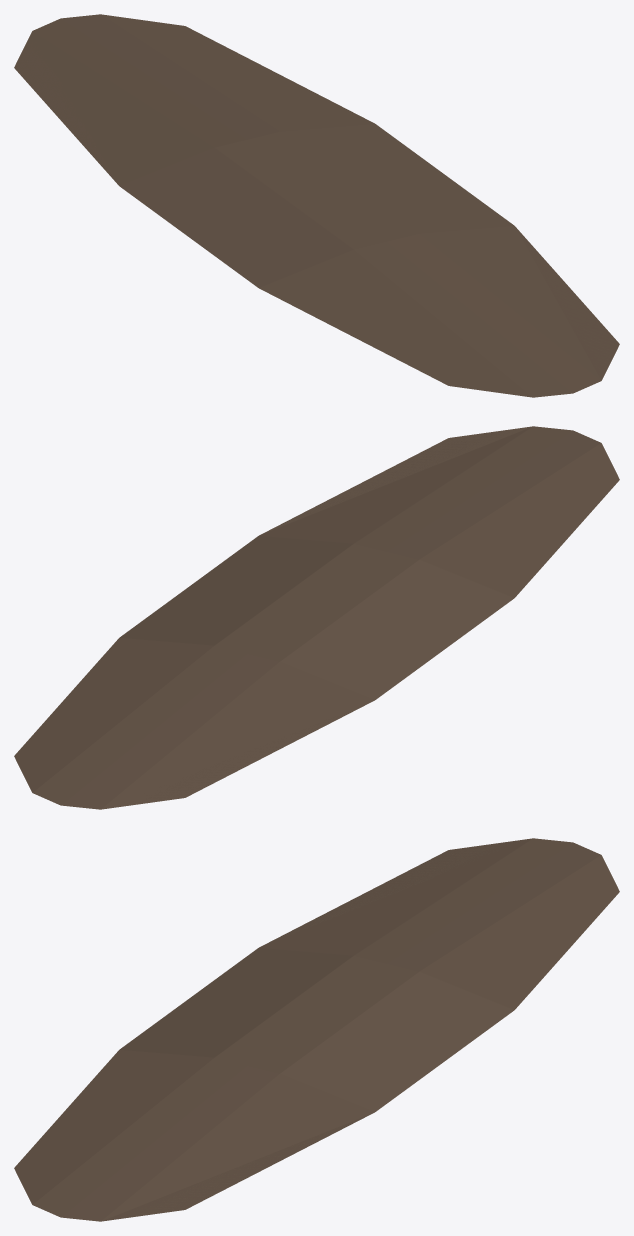
Rendered from shield.glb.
3 renders of one model, top to bottom at view 1: azimuth 30°, elevation 25°; view 2: azimuth 150°, elevation 25°; view 3: azimuth 330°, elevation 25°, orthographic.
Parts seen in each view (by area): view 1: Wunda; view 2: Wunda; view 3: Wunda.
Part boxes in pixels (left/top/right/bottom): Wunda: left=14, top=14, right=619, bottom=397; Wunda: left=14, top=426, right=619, bottom=809; Wunda: left=14, top=838, right=619, bottom=1221.
Size of the model in its own units: 1.02 by 0.2105 by 3.55.
